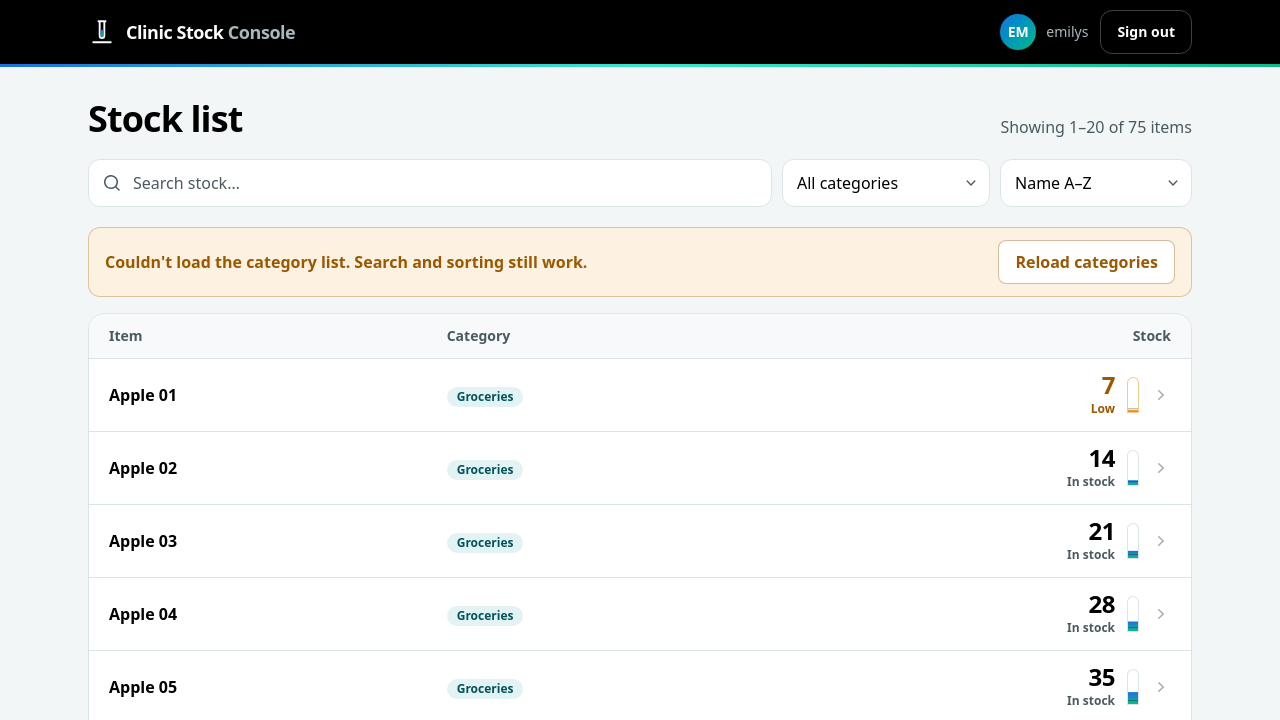
4. Loading, empty and error states, with recovery from /http/500 › category list: an error offers a reload without blocking the stock list
Check: the text "Showing 1–20 of 75 items" is shown, box [1000,115,1192,139]
Click the button "Reload categories". click: (1087, 262)
box: [998,240,1175,284]
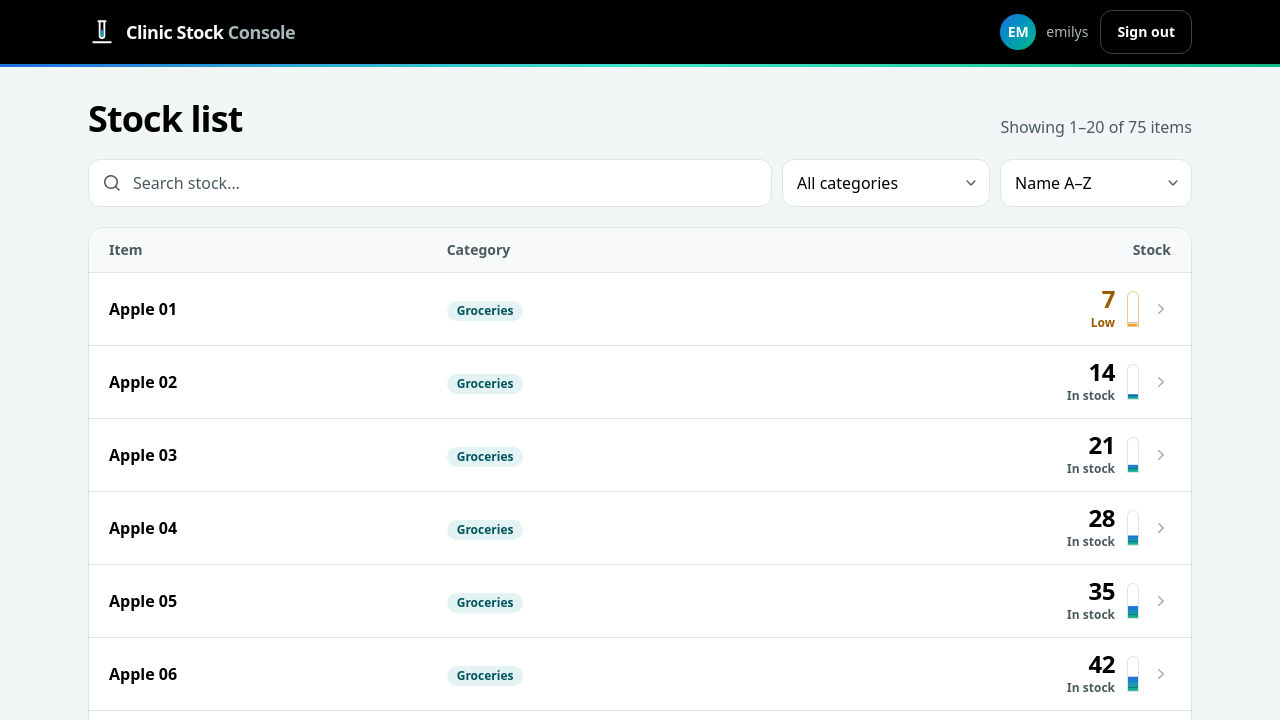
Check: the button "Reload categories" is gone
